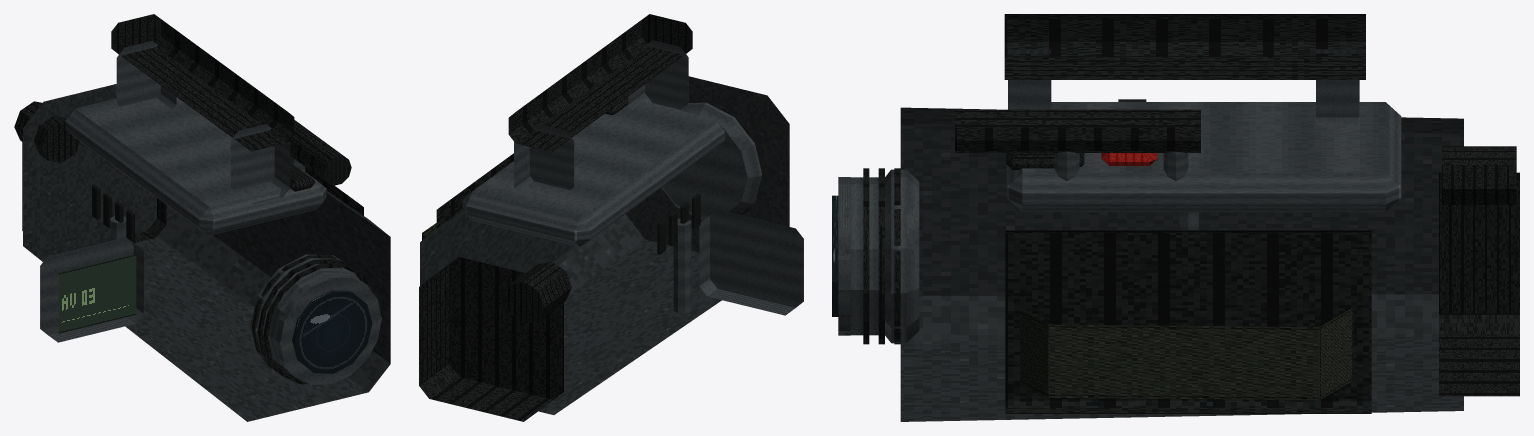
File: blender_video_camera_3.glb
3 renders of one model, left to right at view 1: azimuth 30°, elevation 25°; view 2: azimuth 150°, elevation 25°; view 3: azimuth 270°, elevation 25°, orthographic. The views are drawn at different scales.
Parts seen in each view (by area): view 1: blender_video_camera_3; view 2: blender_video_camera_3; view 3: blender_video_camera_3.
Part boxes in pixels (box(x1,y1,x2,y2)): blender_video_camera_3: box(14, 14, 390, 421); blender_video_camera_3: box(419, 14, 803, 421); blender_video_camera_3: box(832, 14, 1519, 421).
Bounding box in the file's own units: 0.1536 × 0.1262 × 0.221.
7 materials, 7 textured.
